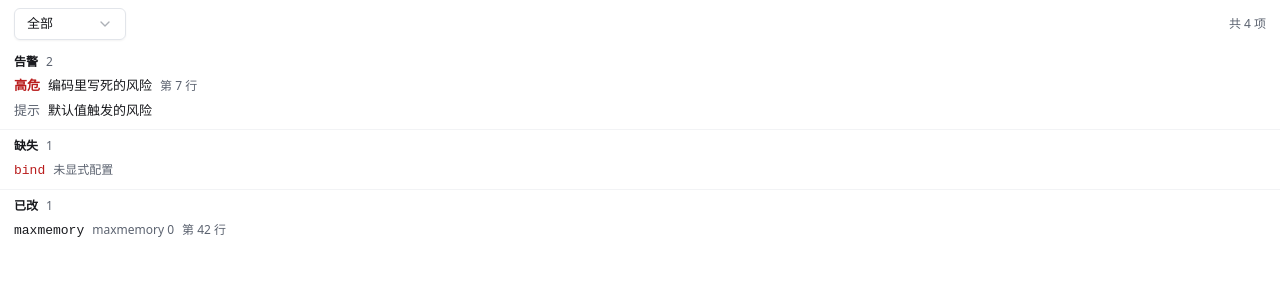
切换筛选后只剩对应分组，空类别给出提示
The image size is (1280, 293).
Click the dropdown named "体检结果筛选": (70, 24) [14, 8, 126, 40]
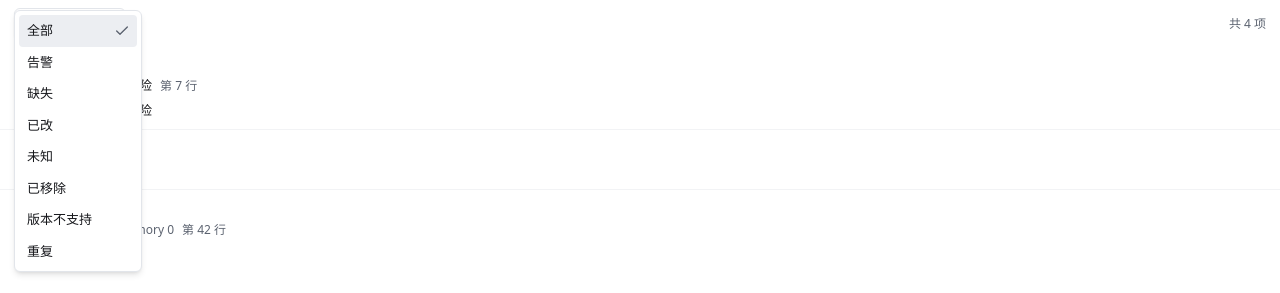
Click the option "重复": (40, 250) [27, 242, 53, 260]
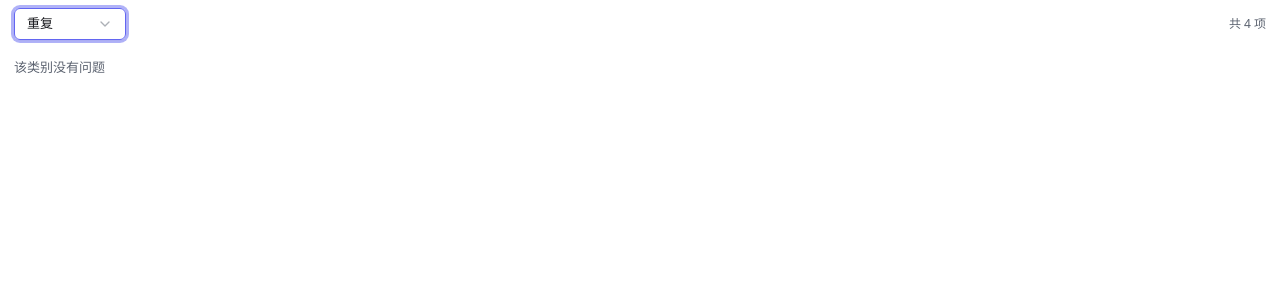
Expected: the text "告警" is gone
Expected: the text "该类别没有问题" is shown, [14, 58, 105, 76]
